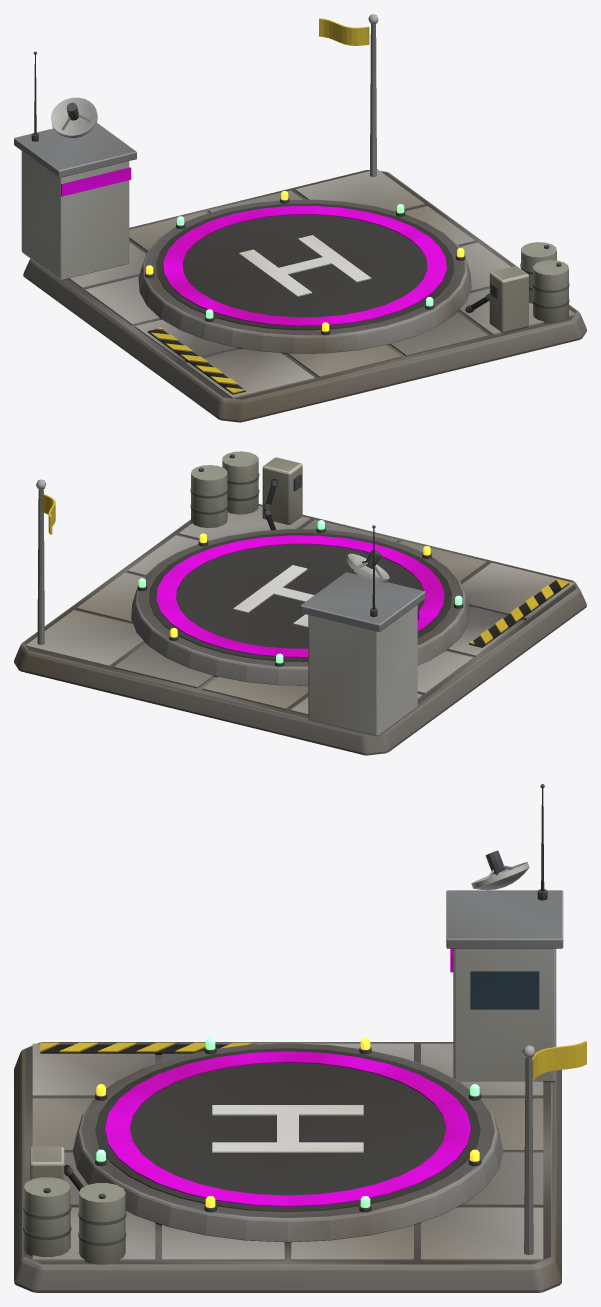
The model's file is helipad.glb.
3 views of the same model, one above another, from view 1: azimuth 30°, elevation 25°; view 2: azimuth 150°, elevation 25°; view 3: azimuth 270°, elevation 25° (orthographic). The views are drawn at different scales.
Parts seen in each view (by area): view 1: Body; view 2: Body; view 3: Body.
Boxes of the visible parts, x1=… form: Body: x1=14, y1=14, x2=586, y2=422; Body: x1=14, y1=451, x2=586, y2=755; Body: x1=14, y1=784, x2=586, y2=1292.
Size of the model in its own units: 3.99 by 2.3 by 4.16.
1 material, 1 textured.
